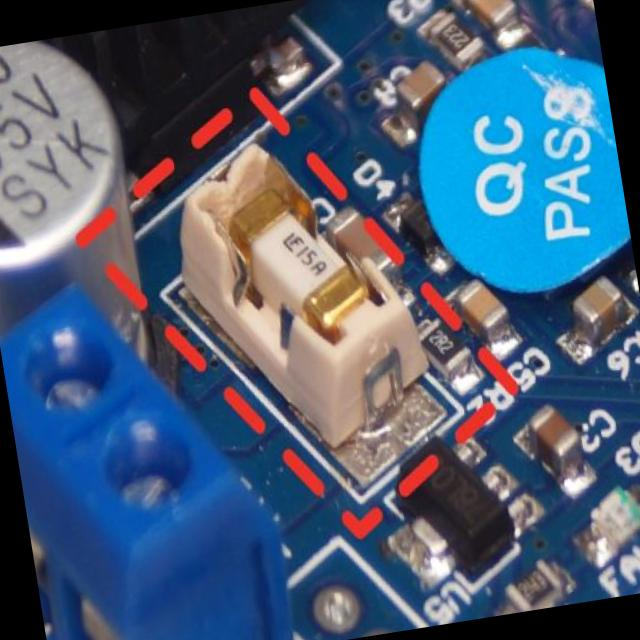capacitor: (0, 29, 163, 375), (519, 402, 595, 480), (560, 276, 639, 349), (447, 280, 520, 351), (387, 60, 448, 131), (462, 0, 526, 31)
connector: (0, 269, 309, 640)
resistor: (419, 7, 493, 71), (502, 560, 577, 615)
transistor: (366, 413, 552, 607)
